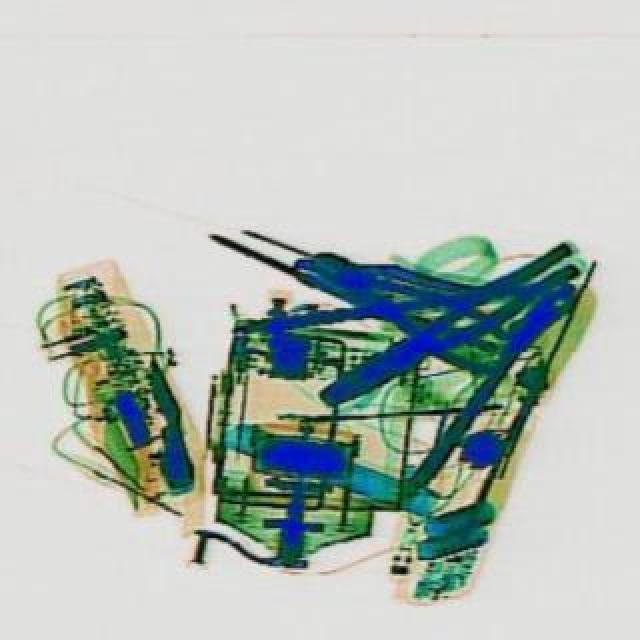wrench: (306, 234, 584, 418), (280, 232, 512, 354)
